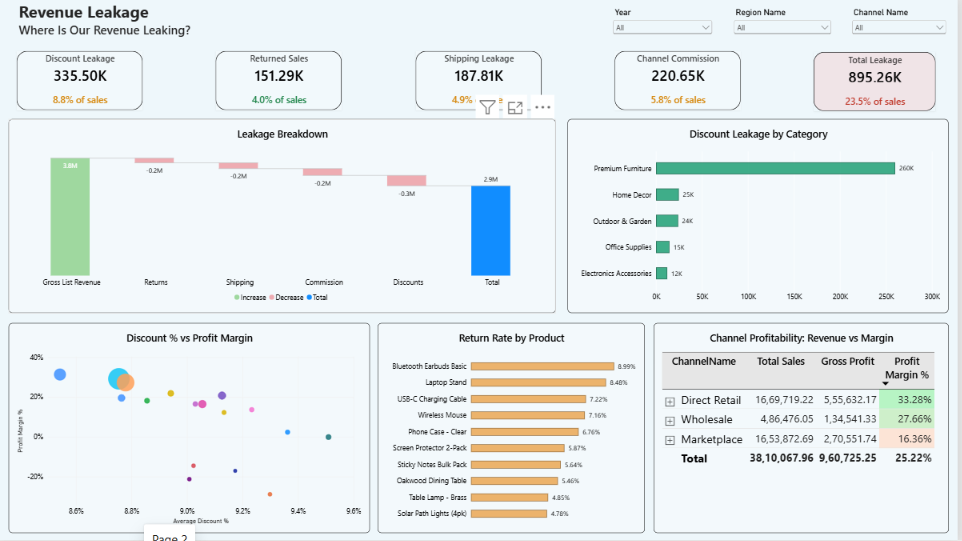

The page's visual inventory and layout, read from the dashboard file:
{"tool":"powerbi","page":{"name":"Page 2","canvas":[1920,1080],"ordinal":1},"visuals":[{"type":"cardVisual","fields":{"Data":["_measure.Discount Leakage"]},"box":[37.2,102.4,252,118],"z":0},{"type":"cardVisual","fields":{"Data":["_measure.Returned Sales"]},"box":[436.2,102,252,118],"z":1000},{"type":"cardVisual","fields":{"Data":["_measure.Shipping Leakage"]},"box":[835.2,102,252,118],"z":2000},{"type":"cardVisual","fields":{"Data":["_measure.Channel Commission"]},"box":[1234.2,102,252,118],"z":3000},{"type":"cardVisual","fields":{"Data":["_measure.Total Leakage"]},"box":[1632,104,244,118],"z":4000},{"type":"waterfallChart","title":"Leakage Breakdown","fields":{"Category":["BridgeSteps.StepName"],"Y":["_measure.Bridge Value"]},"box":[22,238,1094,388],"z":5000},{"type":"barChart","title":"Discount Leakage by Category","fields":{"Category":["Dim_Product.Category"],"Y":["_measure.Discount Leakage"]},"box":[1140,238,762,387.6],"z":6000},{"type":"scatterChart","title":"Discount % vs Profit Margin","fields":{"X":["_measure.Average Discount %"],"Y":["_measure.Profit Margin %"],"Size":["_measure.Total Sales"],"Series":["Dim_Product.SubCategory"],"Category":["Dim_Product.Category"]},"box":[22,646,722,420],"z":7000},{"type":"barChart","title":"Return Rate by Product","fields":{"Category":["Dim_Product.ProductName"],"Y":["_measure.Return Rate"]},"box":[760,646,534,420],"z":8000},{"type":"pivotTable","title":"Channel Profitability: Revenue vs Margin","fields":{"Values":["_measure.Total Sales","_measure.Gross Profit","_measure.Profit Margin %"],"Rows":["Dim_Channel.ChannelName","Dim_Product.Category"]},"box":[1312,646,590,420],"z":9000},{"type":"slicer","fields":{"Values":["DateTable.Date.Variation.Date Hierarchy.Year"]},"box":[1226,14,208,62],"z":10000},{"type":"slicer","fields":{"Values":["Dim_Region.RegionName"]},"box":[1467,14,204,62],"z":11000},{"type":"slicer","fields":{"Values":["Dim_Channel.ChannelName"]},"box":[1704,14,198,62],"z":12000},{"type":"textbox","box":[42,0,858,76],"z":13000}]}

Visuals, with their boxes in screenshot pixels (x1, y1, x2, y2), scaled from the page's 1920x1080 canvas onto the 962x541 screenshot:
cardVisual - _measure.Discount Leakage: select_region(19, 51, 145, 110)
cardVisual - _measure.Returned Sales: select_region(219, 51, 345, 110)
cardVisual - _measure.Shipping Leakage: select_region(418, 51, 545, 110)
cardVisual - _measure.Channel Commission: select_region(618, 51, 745, 110)
cardVisual - _measure.Total Leakage: select_region(818, 52, 940, 111)
"Leakage Breakdown" waterfallChart: select_region(11, 119, 559, 314)
"Discount Leakage by Category" barChart: select_region(571, 119, 953, 313)
"Discount % vs Profit Margin" scatterChart: select_region(11, 324, 373, 534)
"Return Rate by Product" barChart: select_region(381, 324, 648, 534)
"Channel Profitability: Revenue vs Margin" pivotTable: select_region(657, 324, 953, 534)
slicer - DateTable.Date.Variation.Date Hierarchy.Year: select_region(614, 7, 718, 38)
slicer - Dim_Region.RegionName: select_region(735, 7, 837, 38)
slicer - Dim_Channel.ChannelName: select_region(854, 7, 953, 38)
textbox: select_region(21, 0, 451, 38)
